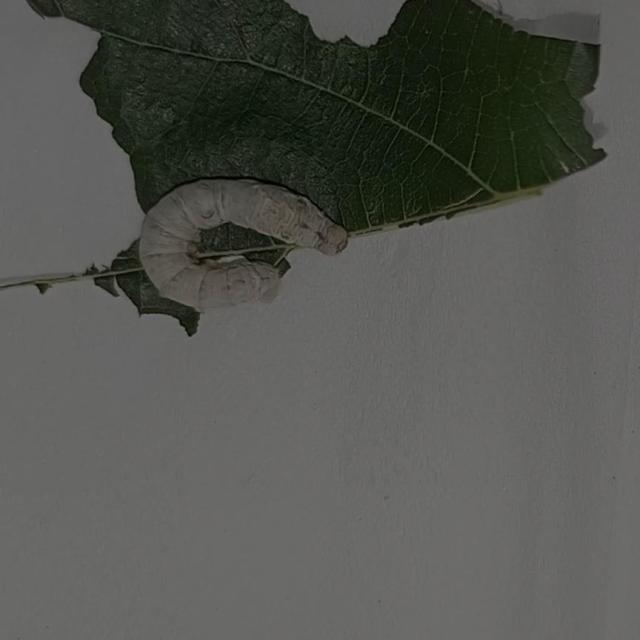Healthy: (123, 152, 374, 336)
